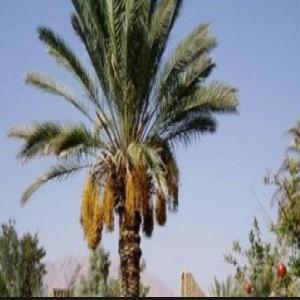palm tree: (7, 0, 239, 296)
